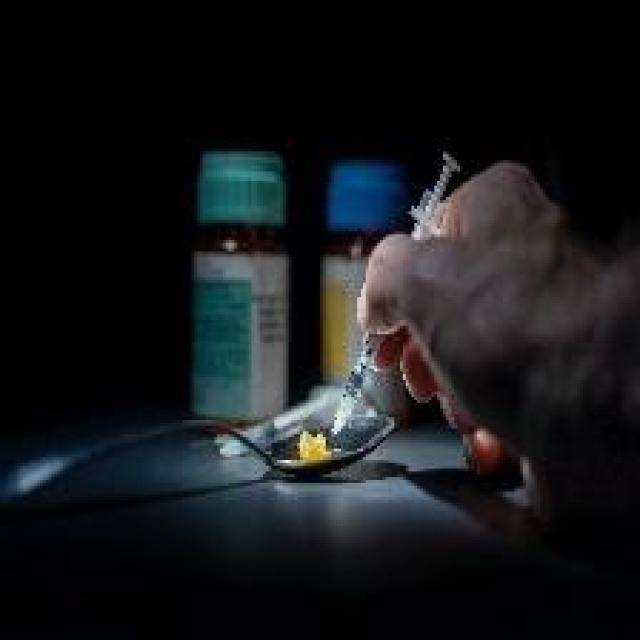syringe: (300, 153, 460, 504)
